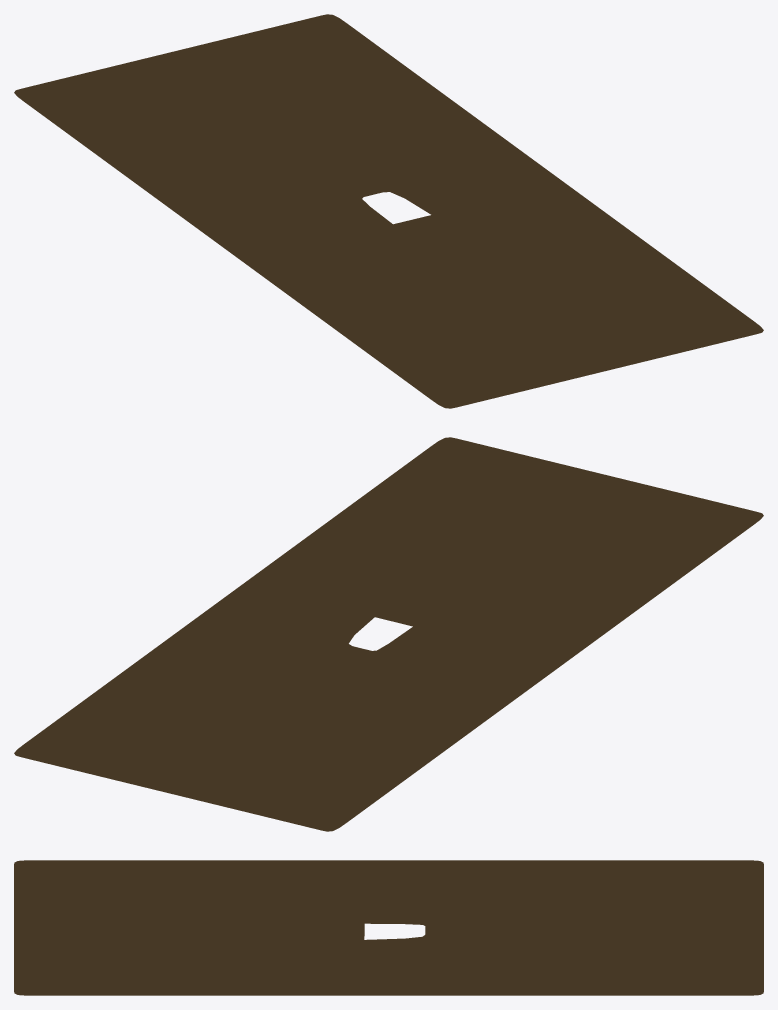
File: Sadece_pelerin.fbx
3 renders of one model, top to bottom at view 1: azimuth 30°, elevation 25°; view 2: azimuth 150°, elevation 25°; view 3: azimuth 270°, elevation 25°, orthographic. The views are drawn at different scales.
Parts seen in each view (by area): view 1: choth; view 2: choth; view 3: choth.
Part boxes in pixels (x1,y1,x2,y2): choth: (14, 14, 763, 408); choth: (14, 437, 763, 831); choth: (14, 860, 763, 995).
Size of the model in its own units: 258 by 9.81e-05 by 602.
